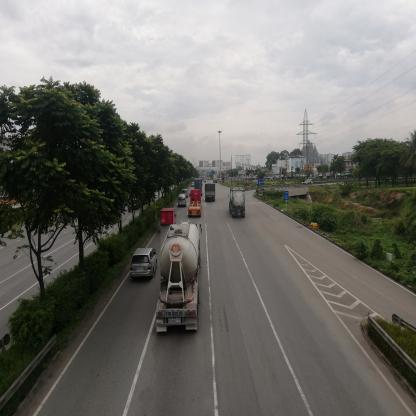car: (131, 249, 157, 279), (178, 196, 187, 209), (184, 190, 189, 196)
container: (189, 192, 202, 216), (196, 178, 204, 190)
truck: (162, 225, 202, 326), (230, 189, 246, 218), (161, 207, 175, 234), (206, 185, 217, 203), (305, 180, 313, 185)
